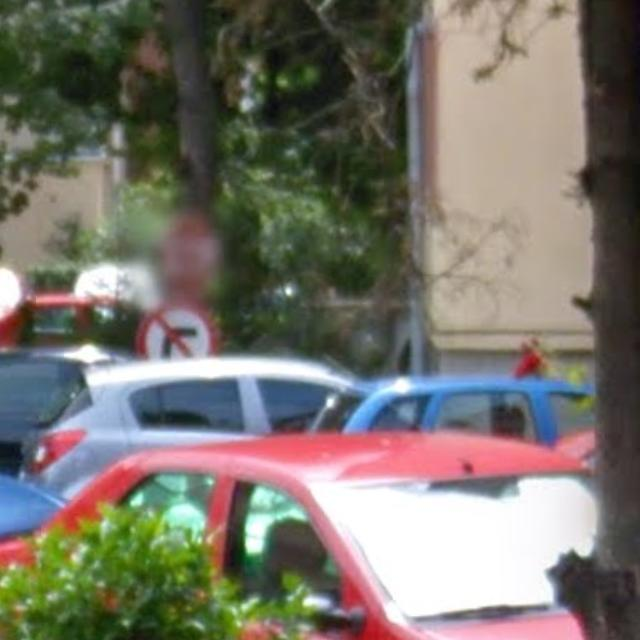forb_right: (136, 304, 217, 361)
